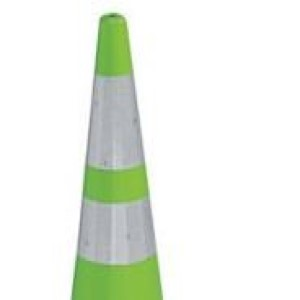traffic cone: (72, 12, 163, 300)
